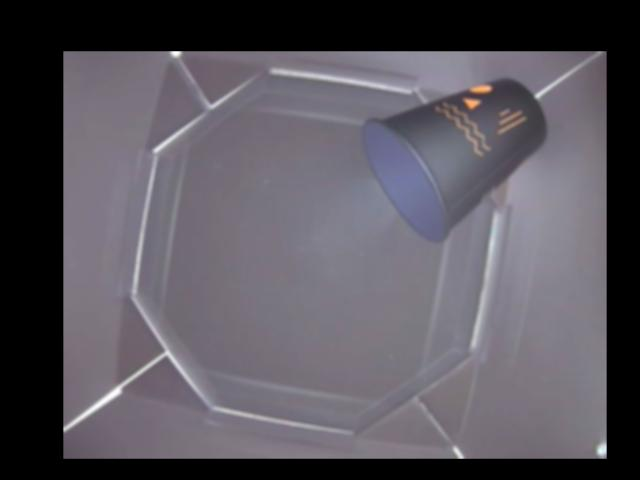Cup: (362, 77, 548, 243)
